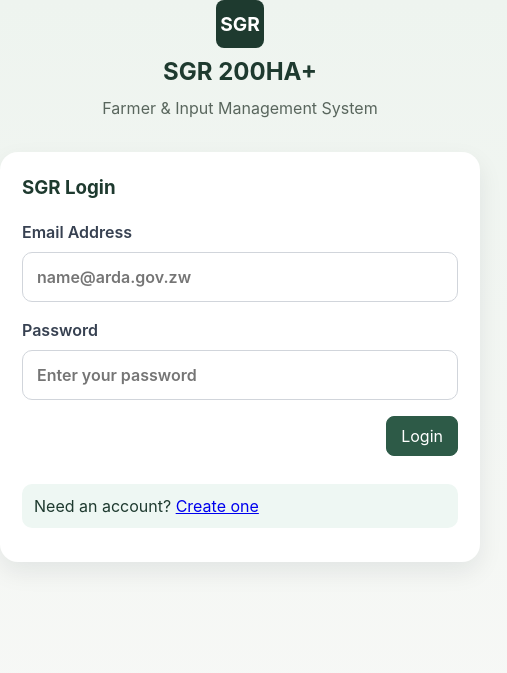
Test: LoginPage › shows a credential error only for a rejected login
This screenshot has width=507, height=673.
In the field with placeholder "name@arda.gov.zw": (240, 277) [22,252,458,302], type "officer@arda.gov.zw"
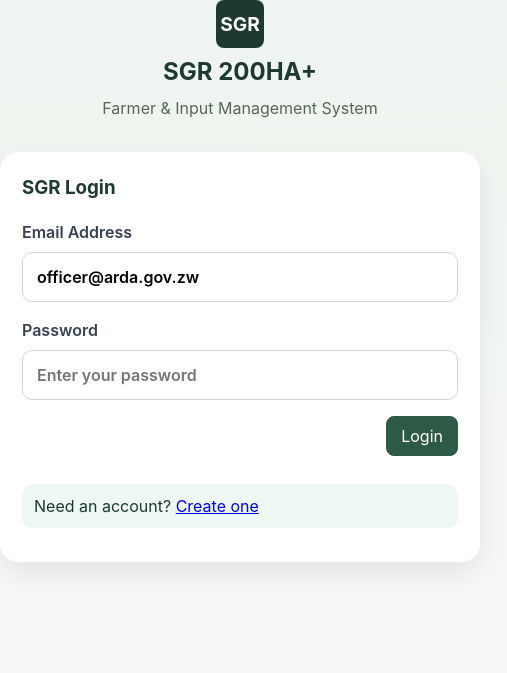
In the password field with placeholder "Enter your password": (240, 375) [22,350,458,400], type "wrong-password"
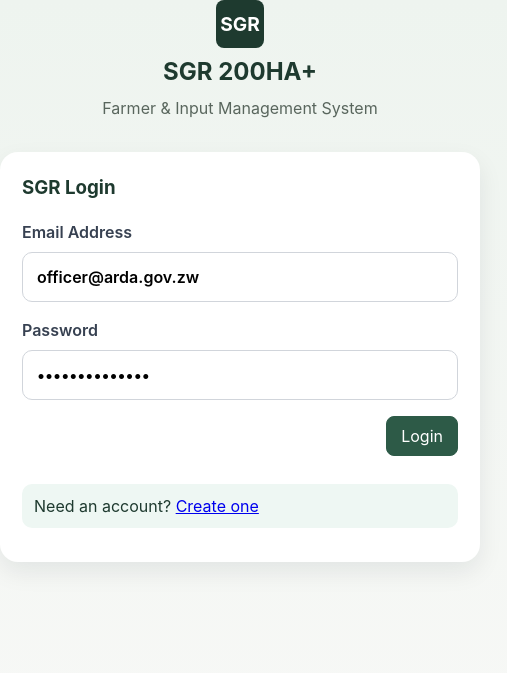
Click the button "Login": (422, 436) [386,416,458,456]
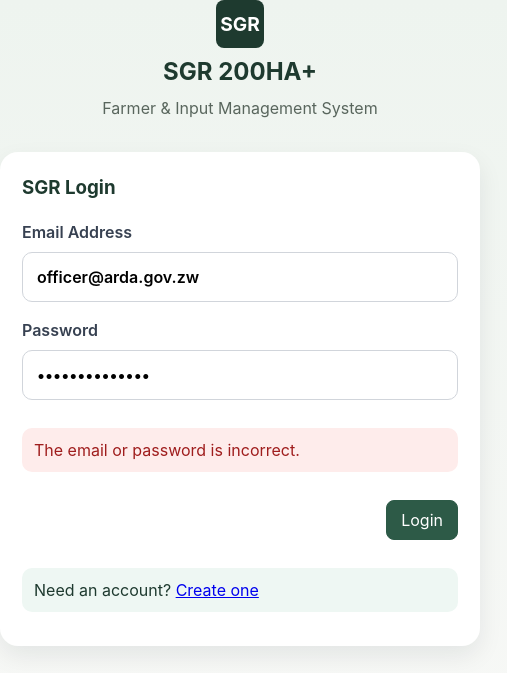
Check: the text "The email or password is incorrect." is shown, box [22,428,458,472]
